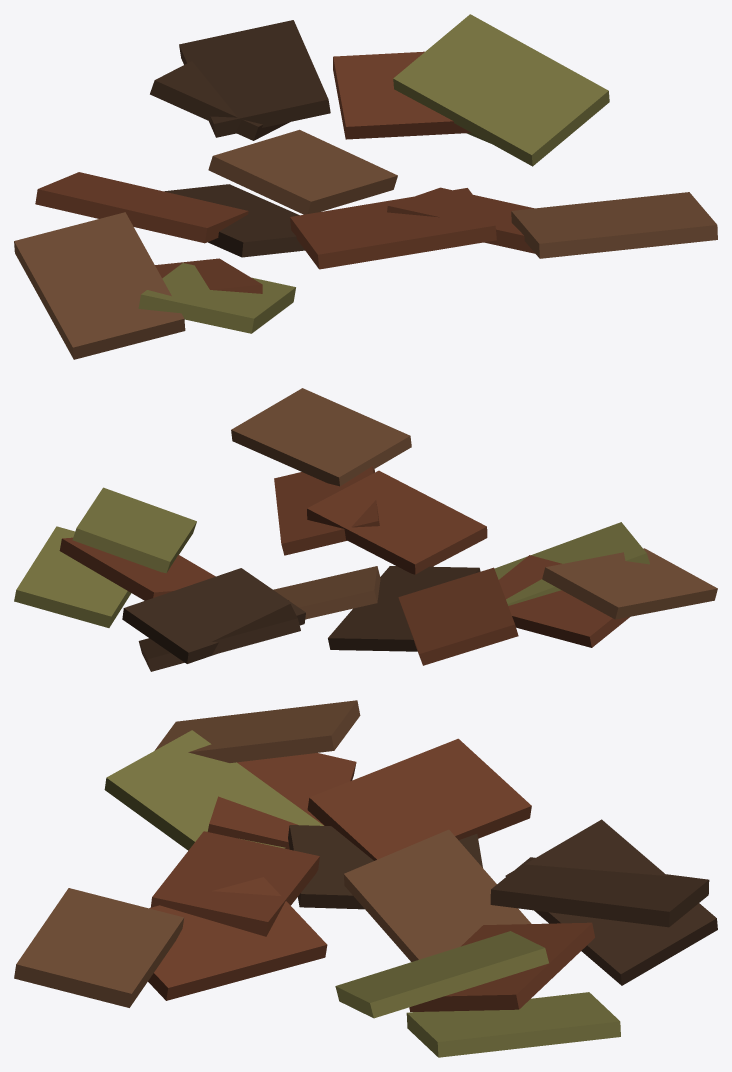
Rendered from leaf_pile.glb.
The picture shows the model from 3 angles, top to bottom: view 1: azimuth 30°, elevation 25°; view 2: azimuth 150°, elevation 25°; view 3: azimuth 270°, elevation 25°; orthographic projection. The views are drawn at different scales.
Visible parts, largest first — view 1: LeafPile; view 2: LeafPile; view 3: LeafPile.
Boxes of the visible parts, x1,y1,x2,y2 form: LeafPile: (14,14,717,359); LeafPile: (14,388,717,671); LeafPile: (14,700,717,1057).
Bounding box in the file's own units: 0.2883 × 0.0449 × 0.2606.
